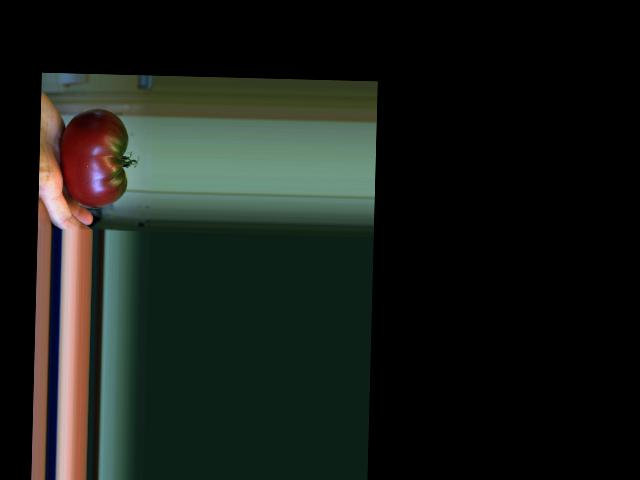tomato: (58, 108, 129, 208)
